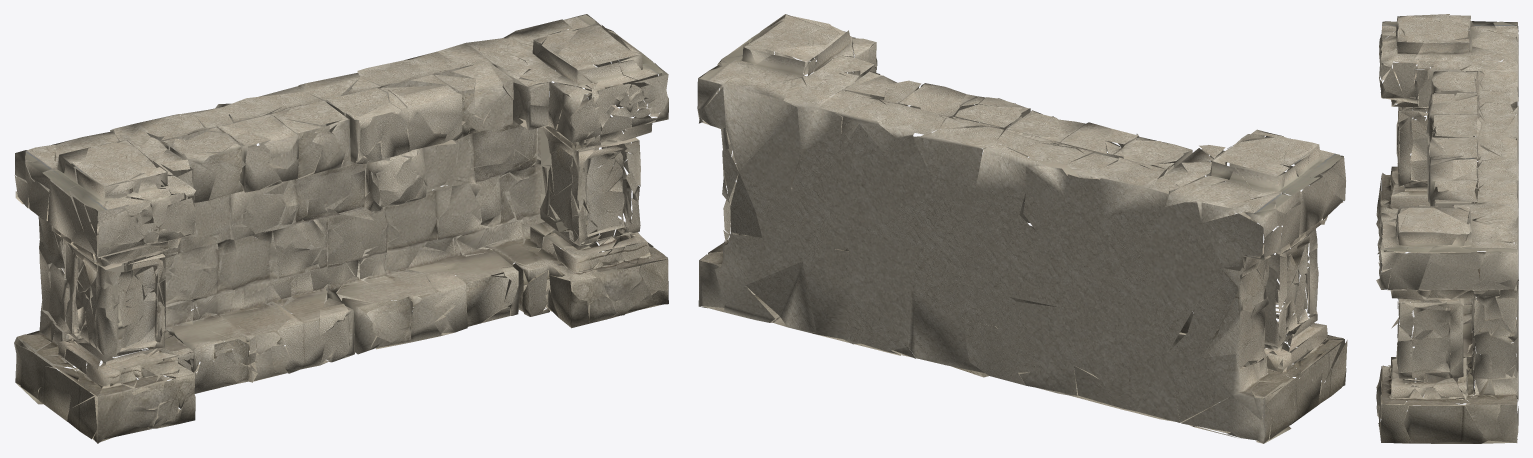
Rendered from muretto_meshy.glb.
3 renders of one model, left to right at view 1: azimuth 30°, elevation 25°; view 2: azimuth 150°, elevation 25°; view 3: azimuth 270°, elevation 25°, orthographic. The views are drawn at different scales.
Visible parts, largest first — view 1: MurettoMeshy; view 2: MurettoMeshy; view 3: MurettoMeshy.
Part boxes in pixels (left/top/right/bottom): MurettoMeshy: left=14, top=14, right=668, bottom=443; MurettoMeshy: left=697, top=14, right=1347, bottom=443; MurettoMeshy: left=1376, top=14, right=1518, bottom=443.
Bounding box in the file's own units: 3.67 × 1.52 × 0.9505.
1 material, 1 textured.
